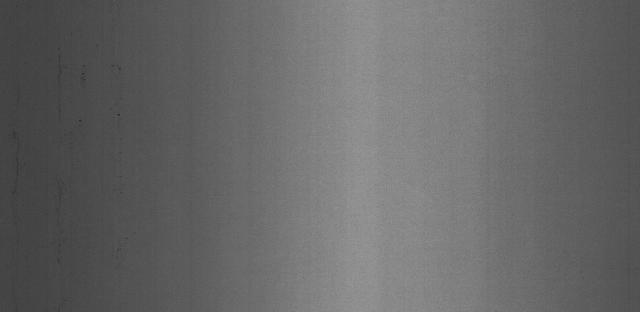inclusion: (111, 54, 130, 148), (75, 58, 90, 136)
water_spot: (48, 42, 68, 122)
